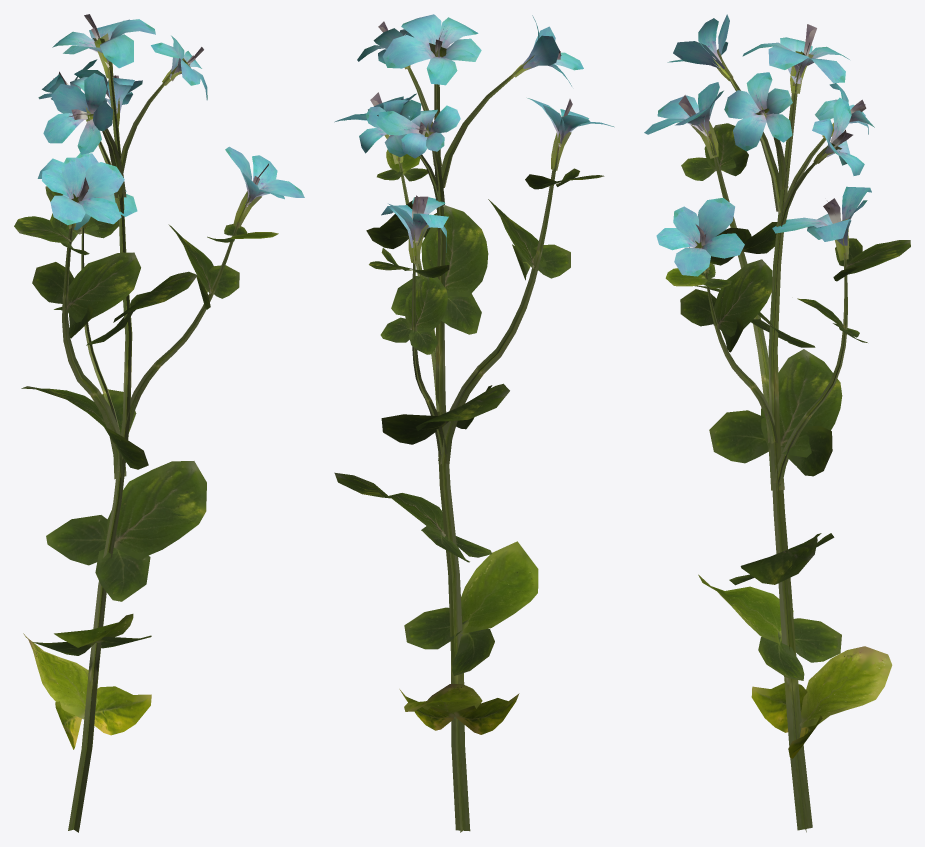
Rendered from Periwinkle_baby_short_cyan.glb.
3 renders of one model, left to right at view 1: azimuth 30°, elevation 25°; view 2: azimuth 150°, elevation 25°; view 3: azimuth 270°, elevation 25°, orthographic.
Parts seen in each view (by area): view 1: _b868_Var1_LOD1; view 2: _b868_Var1_LOD1; view 3: _b868_Var1_LOD1.
Boxes of the visible parts, x1,y1,x2,y2 form: _b868_Var1_LOD1: (14,14,304,832); _b868_Var1_LOD1: (334,14,614,832); _b868_Var1_LOD1: (644,14,910,832).
Size of the model in its own units: 0.5832 by 1.66 by 0.4917.
1 material, 1 textured.
